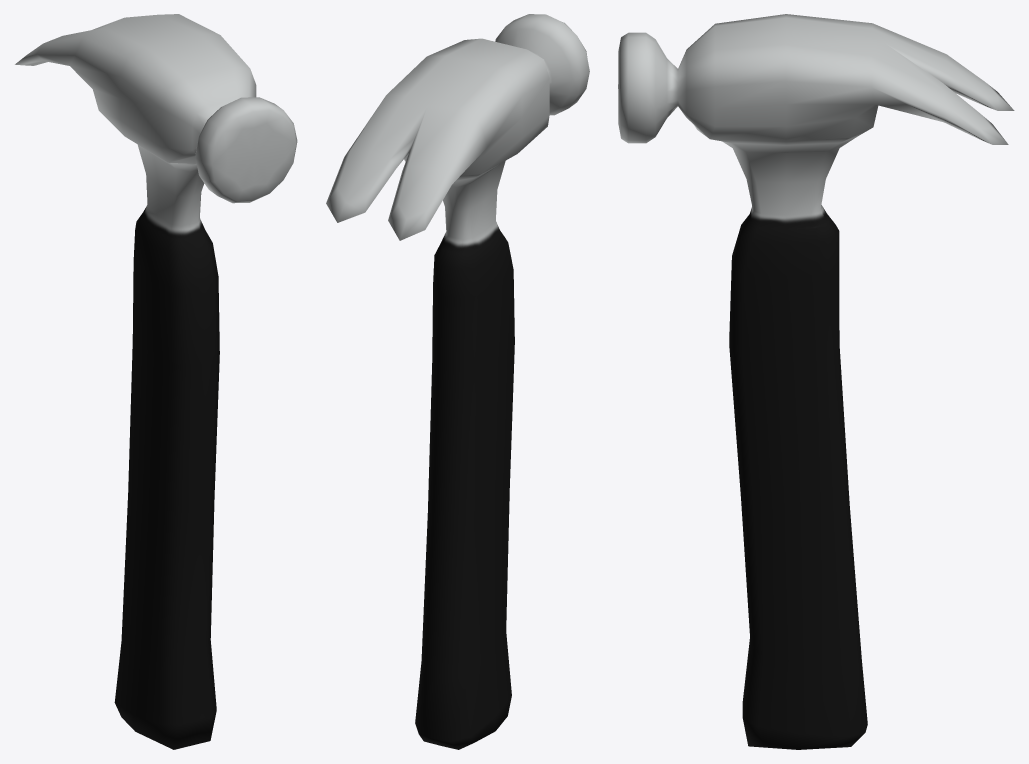
Rendered from hammer.fbx.
3 renders of one model, left to right at view 1: azimuth 30°, elevation 25°; view 2: azimuth 150°, elevation 25°; view 3: azimuth 270°, elevation 25°, orthographic. The views are drawn at different scales.
Parts seen in each view (by area): view 1: pCube1; view 2: pCube1; view 3: pCube1.
Part boxes in pixels (left/top/right/bottom): pCube1: left=15, top=14, right=297, bottom=749; pCube1: left=326, top=14, right=589, bottom=749; pCube1: left=618, top=14, right=1014, bottom=749.
Size of the model in its own units: 4.99 by 13.96 by 27.54.
1 material, 1 textured.
